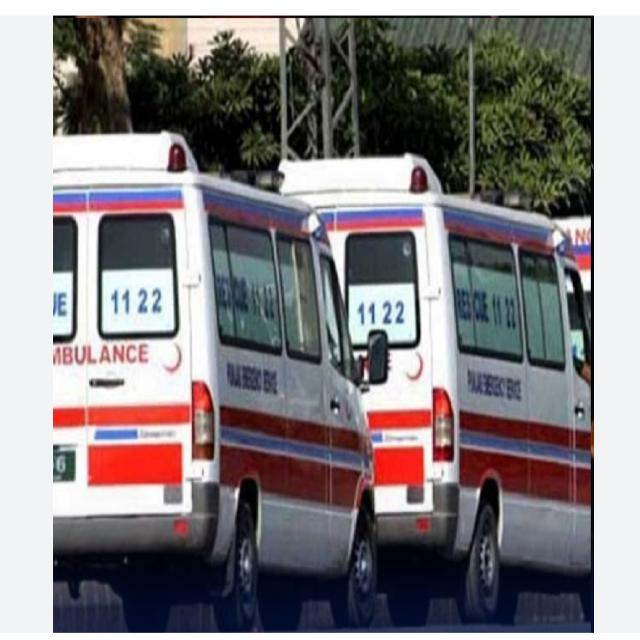ambulance: (302, 122, 626, 577), (57, 148, 328, 564)
